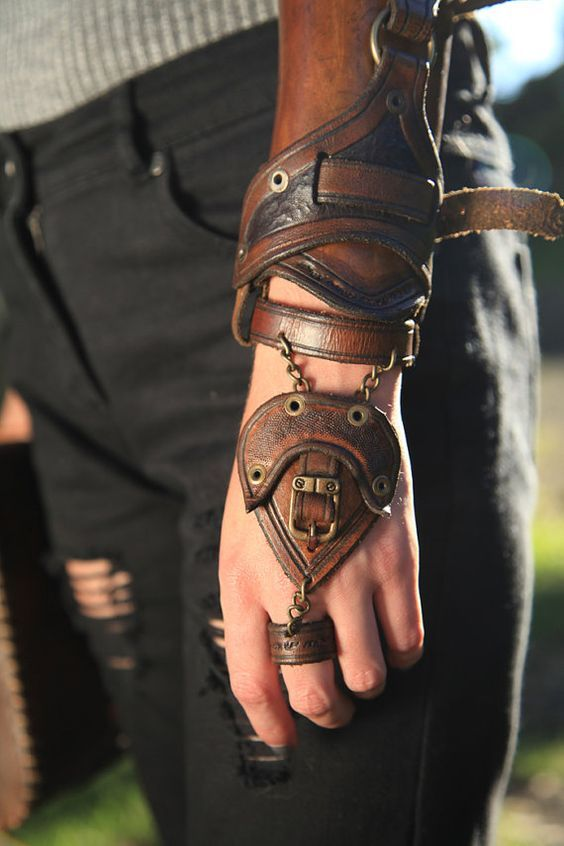cuero: (229, 1, 564, 667)
